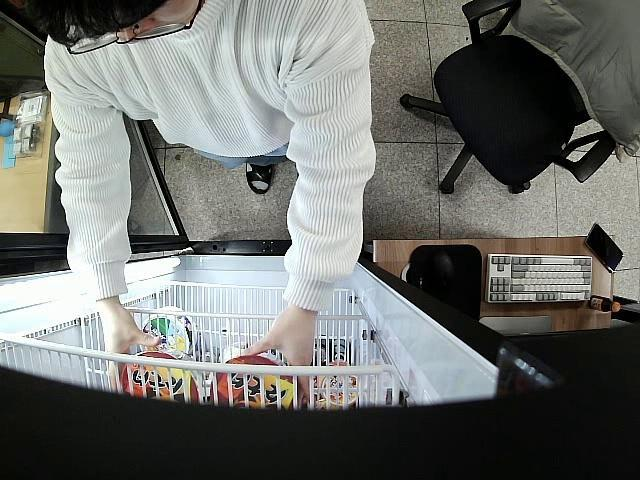05_nuguri_L: (210, 354, 302, 412), (121, 348, 203, 406)
